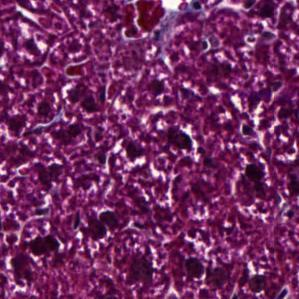inflammation: (76, 208, 124, 251), (234, 159, 272, 205), (111, 129, 148, 173), (164, 121, 199, 158)
